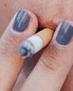smoke: (19, 27, 54, 57)
